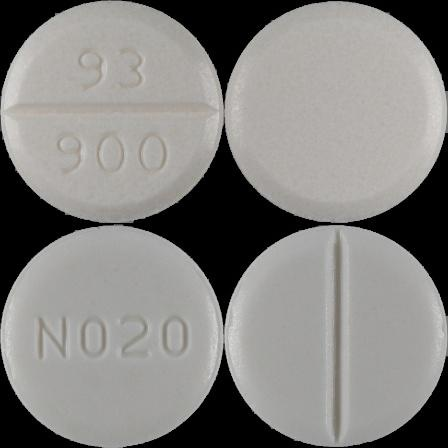16590-998: (0, 0, 224, 224)
